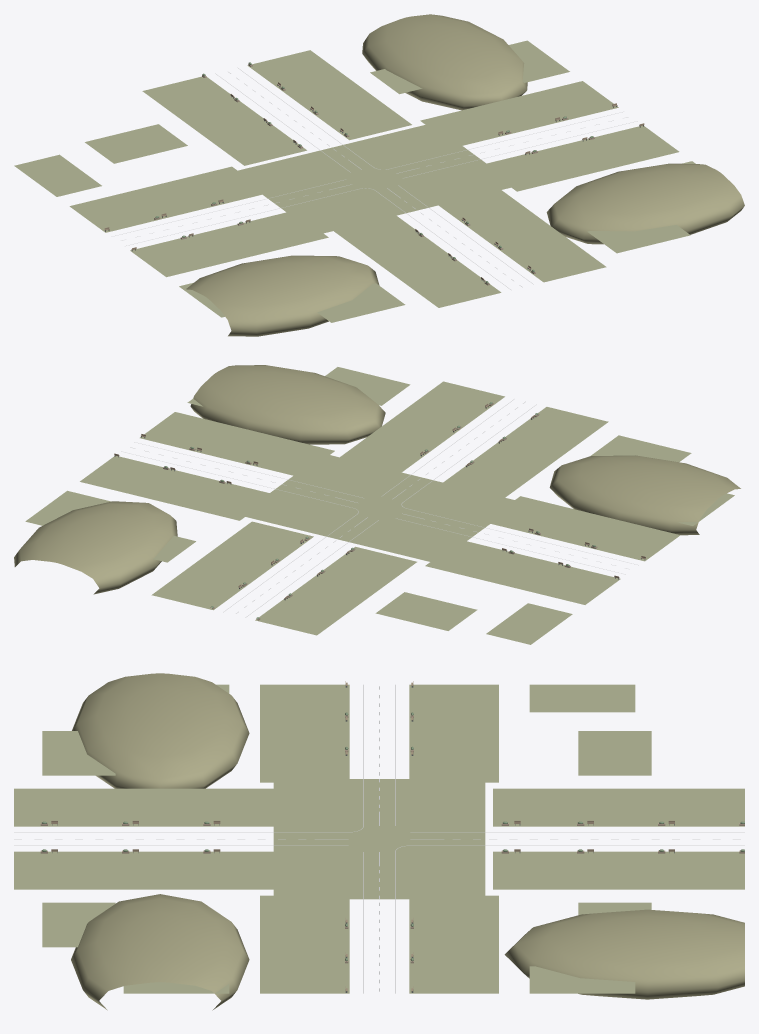
The picture shows the model from 3 angles, top to bottom: view 1: azimuth 30°, elevation 25°; view 2: azimuth 150°, elevation 25°; view 3: azimuth 270°, elevation 25°; orthographic projection. The views are drawn at different scales.
Visible parts, largest first — view 1: static; view 2: static; view 3: static.
Part boxes in pixels (x1,y1,x2,y2): static: [14, 14, 744, 336]; static: [14, 365, 740, 644]; static: [14, 673, 744, 1010].
Size of what is drawn, in the model's own units: 180 by 14.08 by 180.
